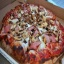pizza: (1, 3, 64, 63)
